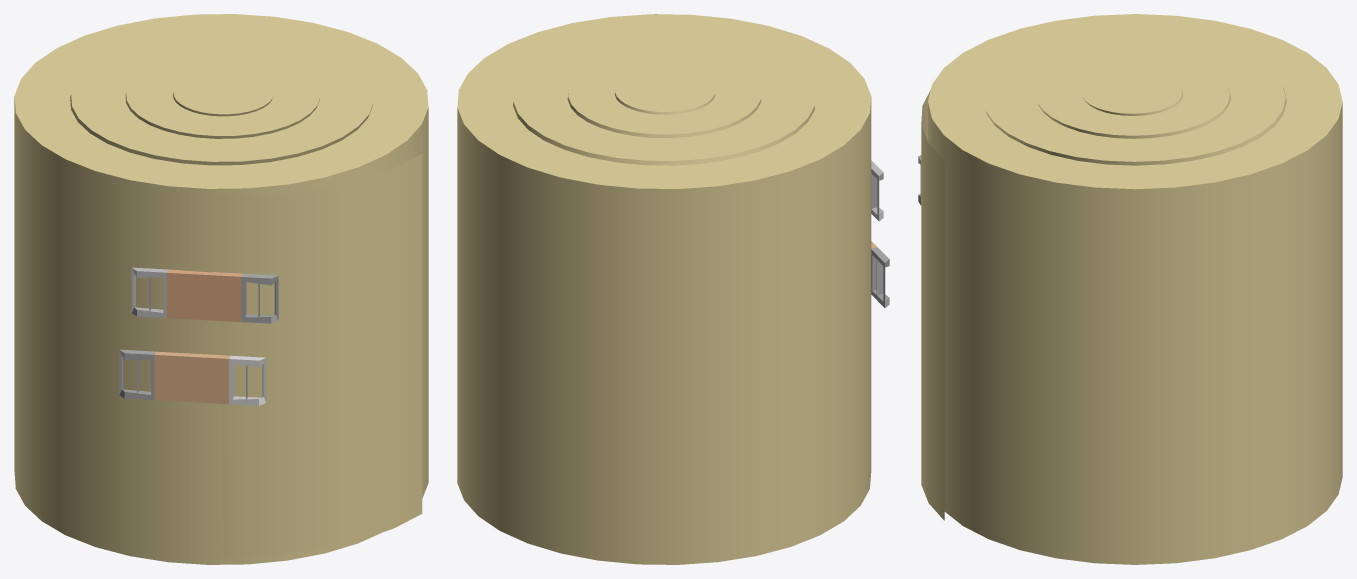
File: sargi_bezi.fbx
3 renders of one model, left to right at view 1: azimuth 30°, elevation 25°; view 2: azimuth 150°, elevation 25°; view 3: azimuth 270°, elevation 25°, orthographic.
Visible parts, largest first — view 1: Cylinder.004, Cylinder.002, Cube.003, Cube, Cube.008, Cube.001, Cube.004, Cube.005; view 2: Cylinder.004, Cube.005; view 3: Cylinder.004, Cylinder.002.
Boxes of the visible parts, left/top/right/bottom form: Cylinder.004: left=14, top=14, right=428, bottom=564; Cylinder.002: left=219, top=154, right=422, bottom=557; Cube.003: left=166, top=269, right=242, bottom=322; Cube: left=154, top=351, right=230, bottom=404; Cube.008: left=241, top=273, right=278, bottom=323; Cube.001: left=229, top=355, right=266, bottom=405; Cube.004: left=131, top=267, right=167, bottom=317; Cube.005: left=119, top=349, right=155, bottom=399; Cylinder.004: left=457, top=14, right=871, bottom=564; Cube.005: left=871, top=247, right=889, bottom=307; Cylinder.004: left=928, top=14, right=1342, bottom=564; Cylinder.002: left=921, top=90, right=944, bottom=520.
Bounding box in the file's own units: 200 × 210 × 205.
